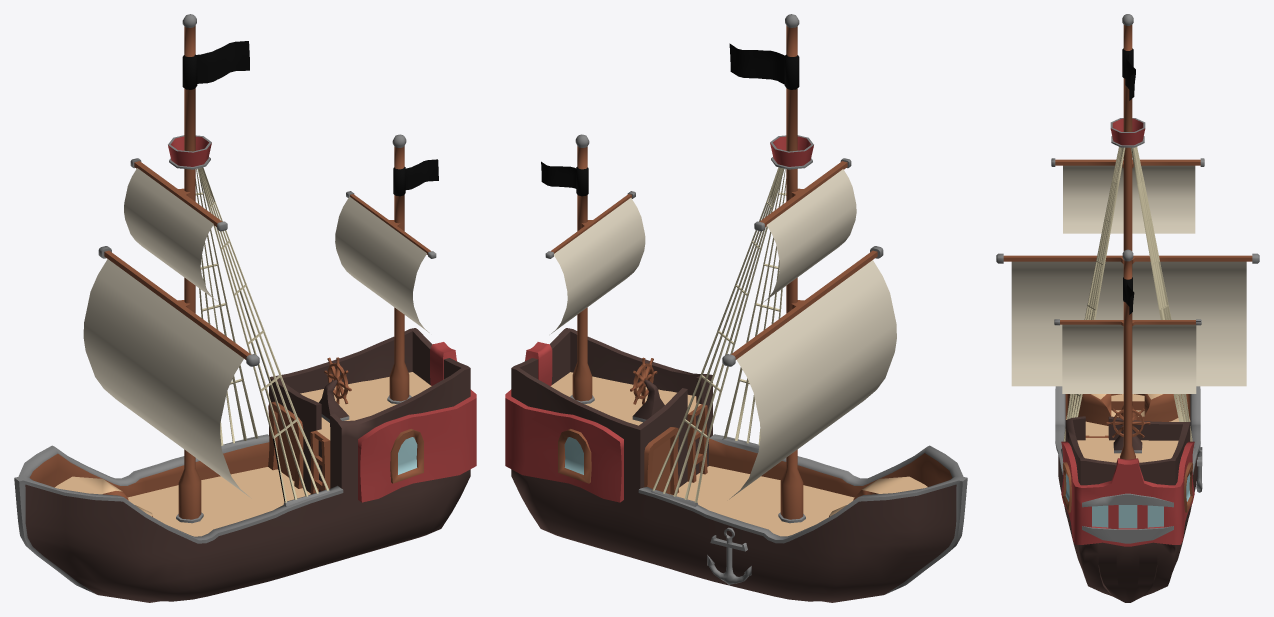
Rendered from Ship18.fbx.
3 views of the same model, side by side, from view 1: azimuth 30°, elevation 25°; view 2: azimuth 150°, elevation 25°; view 3: azimuth 270°, elevation 25° (orthographic). The views are drawn at different scales.
Parts seen in each view (by area): view 1: Brod, JedroVeliko, JedroZadnje, JedroGornje, ZastavaPrednja, ZastavaZadnja, Kormilo; view 2: Brod, JedroVeliko, JedroZadnje, JedroGornje, ZastavaPrednja, Sidro, ZastavaZadnja, Kormilo; view 3: Brod, JedroVeliko, JedroZadnje, JedroGornje, Kormilo.
Part boxes in pixels (x1,y1,x2,y2): Brod: (14, 14, 476, 602); JedroVeliko: (83, 259, 251, 498); JedroZadnje: (335, 196, 429, 332); JedroGornje: (124, 168, 217, 301); ZastavaPrednja: (196, 41, 249, 83); ZastavaZadnja: (405, 159, 438, 189); Kormilo: (324, 357, 351, 404); Brod: (505, 14, 967, 602); JedroVeliko: (729, 260, 896, 499); JedroZadnje: (551, 198, 645, 333); JedroGornje: (763, 169, 856, 302); ZastavaPrednja: (729, 43, 784, 84); Sidro: (707, 527, 751, 585); ZastavaZadnja: (541, 161, 576, 188); Kormilo: (630, 357, 657, 404); Brod: (996, 14, 1259, 602); JedroVeliko: (1011, 261, 1246, 386); JedroZadnje: (1062, 324, 1196, 393); JedroGornje: (1063, 165, 1195, 233); Kormilo: (1106, 408, 1150, 437).
Size of the model in its own units: 4325 by 5470 by 2636.
